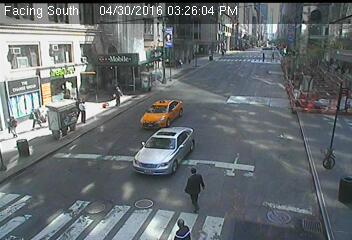neg: (321, 144, 342, 172), (301, 93, 316, 112), (286, 53, 300, 71), (190, 50, 203, 67), (335, 88, 348, 105), (206, 48, 217, 62)
pos: (175, 165, 211, 213), (74, 99, 92, 122), (3, 113, 20, 136), (27, 105, 43, 127), (108, 83, 124, 104), (175, 220, 190, 239), (257, 49, 270, 66), (268, 47, 281, 64)
